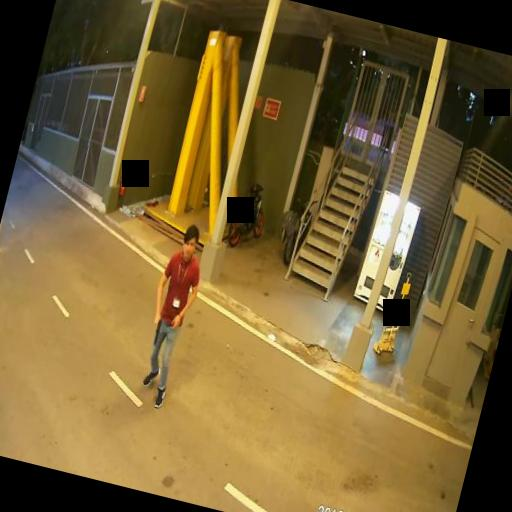Handgun: (148, 314, 162, 346)
